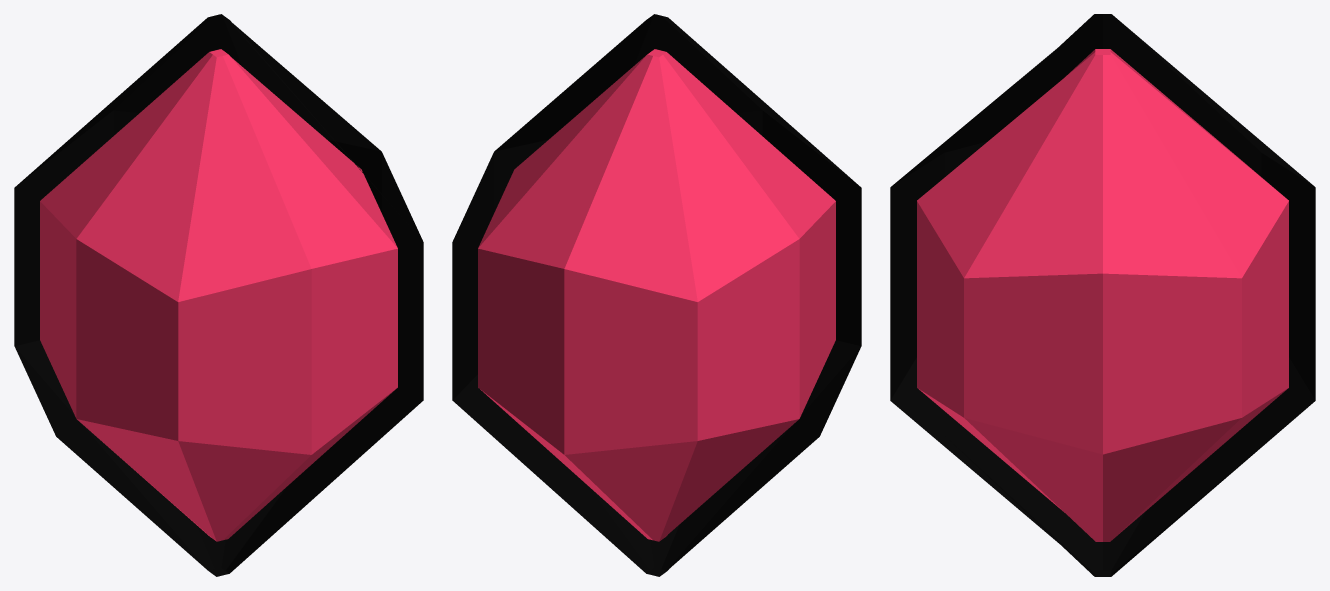
File: Tiro_Prisma.fbx
3 views of the same model, side by side, from view 1: azimuth 30°, elevation 25°; view 2: azimuth 150°, elevation 25°; view 3: azimuth 270°, elevation 25° (orthographic).
Visible parts, largest first — view 1: prismafilho1, prismafilho1.001; view 2: prismafilho1, prismafilho1.001; view 3: prismafilho1, prismafilho1.001.
Boxes of the visible parts, x1=… form: prismafilho1: x1=40, y1=49, x2=397, y2=541; prismafilho1.001: x1=14, y1=14, x2=423, y2=576; prismafilho1: x1=478, y1=49, x2=835, y2=541; prismafilho1.001: x1=452, y1=14, x2=861, y2=576; prismafilho1: x1=917, y1=49, x2=1288, y2=541; prismafilho1.001: x1=890, y1=14, x2=1315, y2=576.
Size of the model in its own units: 40.84 by 66.33 by 45.95.
